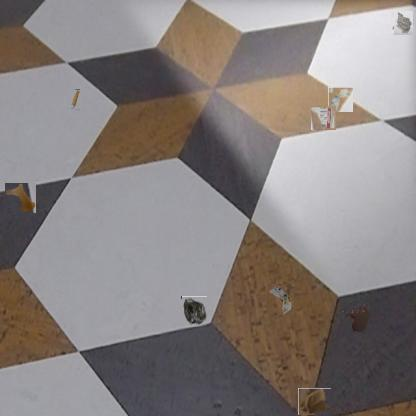dirty: (266, 283, 294, 315), (298, 388, 331, 415), (181, 296, 207, 327), (328, 87, 353, 112), (311, 106, 335, 130), (392, 12, 414, 34), (68, 89, 80, 109)
liquid: (4, 183, 36, 213), (342, 304, 370, 332)
